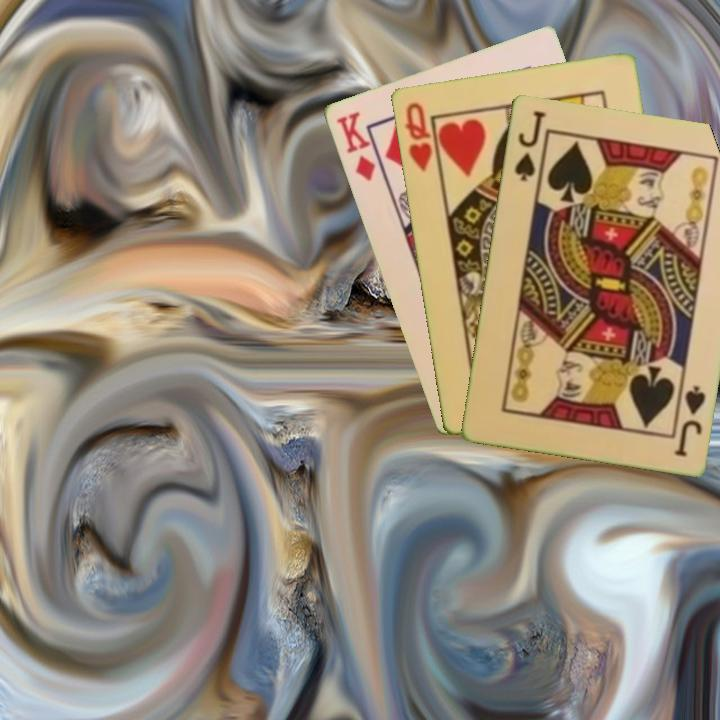Js: (670, 379, 708, 459), (510, 106, 548, 184)
Kd: (332, 108, 387, 184)
Qh: (401, 98, 435, 174)
